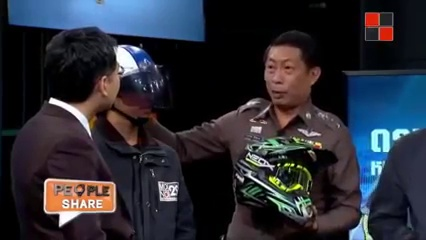helmet: (236, 135, 330, 226), (118, 41, 174, 125)
